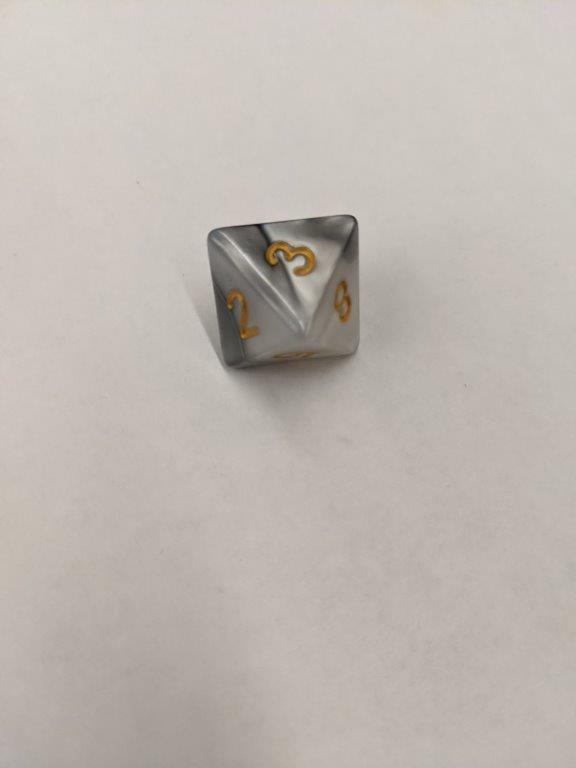d8-3: (205, 214, 363, 370)
